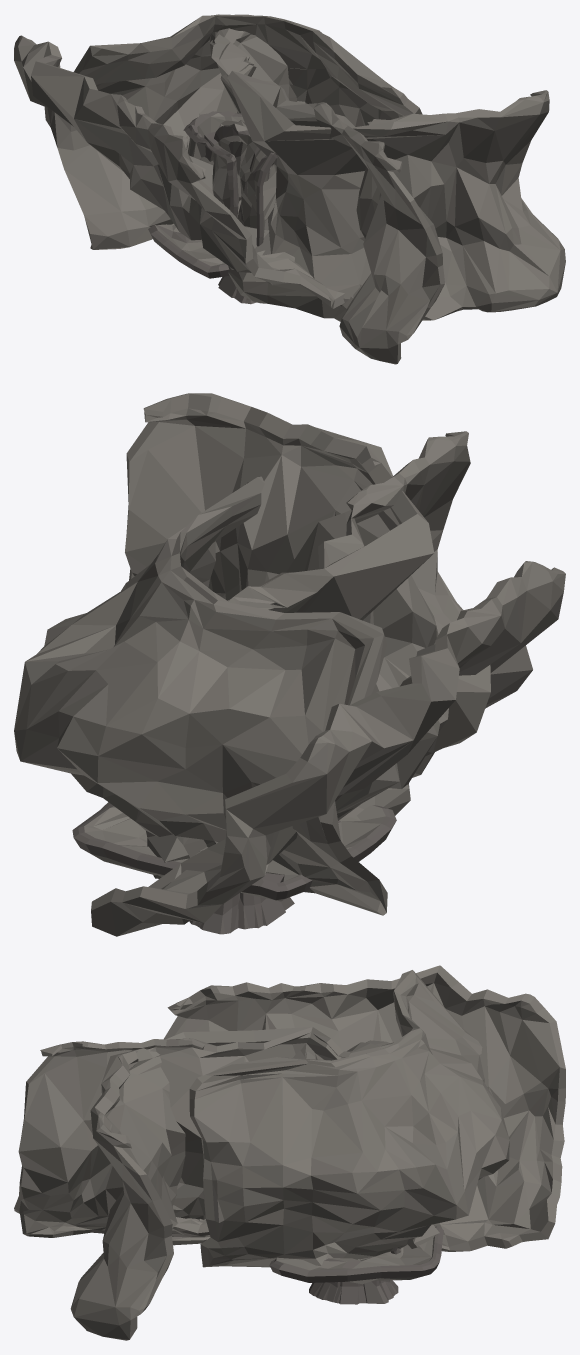
The model's file is Rocks.fbx.
The picture shows the model from 3 angles, top to bottom: view 1: azimuth 30°, elevation 25°; view 2: azimuth 150°, elevation 25°; view 3: azimuth 270°, elevation 25°; orthographic projection. The views are drawn at different scales.
Parts seen in each view (by area): view 1: SM_Env_Cave_Background_Corner_02, SM_Env_Cave_Background_Corner_01, SM_Env_Cave_Background_Corner_02_DoubleSided, SM_Env_Cave_Background_01_DoubleSided, SM_Env_Cave_Background_02_DoubleSided, SM_Env_Cave_Background_02, SM_Env_Cave_Background_01, SM_Env_Cave_Large_Corner_01_DoubleSided, SM_Env_Cave_Curved_Corner_01_DoubleSided, SM_Env_Cave_Roof_01_DoubleSided, SM_Env_Cave_Background_Corner_01_DoubleSided, SM_Env_Cave_Large_Corner_01 (+2 smaller); view 2: SM_Env_Cave_Background_Corner_01_DoubleSided, SM_Env_Cave_Background_Corner_02_DoubleSided, SM_Env_Cave_Background_02, SM_Env_Cave_Background_02_DoubleSided, SM_Env_Cave_Background_01_DoubleSided, SM_Env_Cave_Background_Corner_02, SM_Env_Cave_Background_01, SM_Env_Cave_Roof_01_DoubleSided, SM_Env_Cave_Background_Corner_01, SM_Env_Cave_Roof_01, SM_Env_Rock_Flat_Platform_Large_02, SM_Env_Rock_Flat_Platform_Large_01; view 3: SM_Env_Cave_Background_Corner_01_DoubleSided, SM_Env_Cave_Background_02_DoubleSided, SM_Env_Cave_Background_01_DoubleSided, SM_Env_Cave_Background_Corner_02_DoubleSided, SM_Env_Cave_Background_Corner_02, SM_Env_Cave_Roof_01_DoubleSided, SM_Env_Rock_Flat_Platform_Large_01, SM_Env_Cave_Roof_01, SM_Env_Cave_Background_Corner_01, SM_Env_Rock_Flat_Platform_Large_02.
Part boxes in pixels (box(x1,y1,x2,y2)): SM_Env_Cave_Background_Corner_02: box(211, 42, 565, 320); SM_Env_Cave_Background_Corner_01: box(50, 14, 413, 249); SM_Env_Cave_Background_Corner_02_DoubleSided: box(210, 28, 565, 320); SM_Env_Cave_Background_01_DoubleSided: box(212, 32, 444, 363); SM_Env_Cave_Background_02_DoubleSided: box(14, 35, 344, 308); SM_Env_Cave_Background_02: box(14, 36, 330, 304); SM_Env_Cave_Background_01: box(210, 32, 438, 364); SM_Env_Cave_Large_Corner_01_DoubleSided: box(183, 111, 242, 218); SM_Env_Cave_Curved_Corner_01_DoubleSided: box(237, 142, 277, 246); SM_Env_Cave_Roof_01_DoubleSided: box(148, 223, 229, 278); SM_Env_Cave_Background_Corner_01_DoubleSided: box(90, 14, 422, 249); SM_Env_Cave_Large_Corner_01: box(189, 111, 243, 216); SM_Env_Cave_Background_Corner_01_DoubleSided: box(14, 476, 386, 915); SM_Env_Cave_Background_Corner_02_DoubleSided: box(125, 393, 427, 878); SM_Env_Cave_Background_02: box(91, 562, 565, 928); SM_Env_Cave_Background_02_DoubleSided: box(91, 561, 565, 936); SM_Env_Cave_Background_01_DoubleSided: box(176, 433, 470, 857); SM_Env_Cave_Background_Corner_02: box(144, 393, 434, 878); SM_Env_Cave_Background_01: box(228, 431, 468, 691); SM_Env_Cave_Roof_01_DoubleSided: box(72, 802, 396, 895); SM_Env_Cave_Background_Corner_01: box(179, 493, 387, 912); SM_Env_Cave_Roof_01: box(74, 836, 383, 901); SM_Env_Rock_Flat_Platform_Large_02: box(238, 892, 285, 929); SM_Env_Rock_Flat_Platform_Large_01: box(189, 893, 239, 934); SM_Env_Cave_Background_Corner_01_DoubleSided: box(189, 970, 509, 1267); SM_Env_Cave_Background_02_DoubleSided: box(164, 965, 565, 1251); SM_Env_Cave_Background_01_DoubleSided: box(14, 1027, 393, 1245); SM_Env_Cave_Background_Corner_02_DoubleSided: box(71, 1027, 434, 1340); SM_Env_Cave_Background_Corner_02: box(70, 1044, 439, 1339); SM_Env_Cave_Roof_01_DoubleSided: box(269, 1226, 443, 1284); SM_Env_Rock_Flat_Platform_Large_01: box(309, 1280, 398, 1302); SM_Env_Cave_Roof_01: box(269, 1265, 435, 1282); SM_Env_Cave_Background_Corner_01: box(200, 970, 419, 1258); SM_Env_Rock_Flat_Platform_Large_02: box(334, 1281, 366, 1304).
Bounding box in the file's own units: 4925 × 6098 × 3131.
